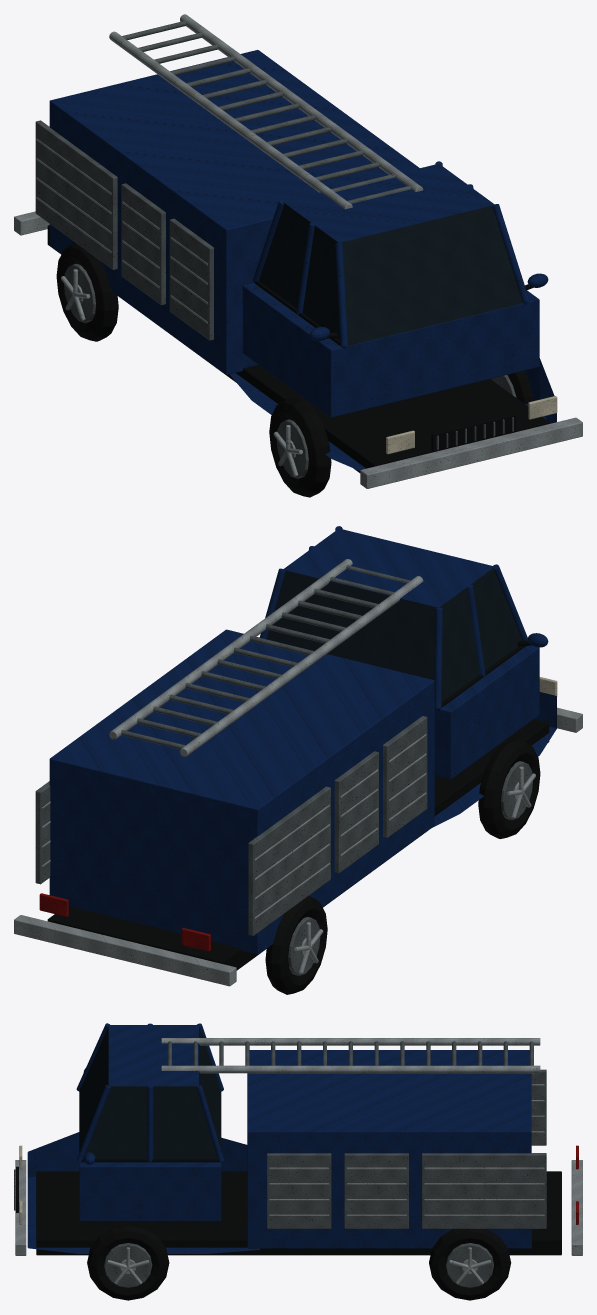
The model's file is PROP-EAE1C359D468_lod0.glb.
3 renders of one model, top to bottom at view 1: azimuth 30°, elevation 25°; view 2: azimuth 150°, elevation 25°; view 3: azimuth 270°, elevation 25°, orthographic. The views are drawn at different scales.
Visible parts, largest first — view 1: equipment_body, sloped_cabin_glazing.004, lower_cab_shell.002, locker_door, chassis.006, roof_panel.004, tire.006, ladder_rails, ladder_rungs, bumper.006, window_pillars.004, rim.006 (+5 smaller); view 2: equipment_body, locker_door, sloped_cabin_glazing.004, lower_cab_shell.002, roof_panel.004, tire.006, chassis.006, ladder_rails, ladder_rungs, bumper.006, window_pillars.004, rim.006 (+4 smaller); view 3: equipment_body, locker_door, chassis.006, sloped_cabin_glazing.004, lower_cab_shell.002, tire.006, ladder_rails, roof_panel.004, shaped_body_panels.006, rim.006, locker_slats, window_pillars.004 (+4 smaller).
Part boxes in pixels (<box>): equipment_body: <box>49,50,419,374</box>; sloped_cabin_glazing.004: <box>259,202,522,345</box>; lower_cab_shell.002: <box>242,283,539,417</box>; locker_door: <box>35,120,213,340</box>; chassis.006: <box>47,225,549,472</box>; roof_panel.004: <box>283,163,494,242</box>; tire.006: <box>56,242,533,497</box>; ladder_rails: <box>109,14,423,209</box>; ladder_rungs: <box>122,21,411,203</box>; bumper.006: <box>14,211,582,488</box>; window_pillars.004: <box>252,161,529,346</box>; rim.006: <box>64,263,516,478</box>; equipment_body: <box>49,629,434,954</box>; locker_door: <box>35,716,427,935</box>; sloped_cabin_glazing.004: <box>266,567,522,701</box>; lower_cab_shell.002: <box>434,645,539,779</box>; roof_panel.004: <box>283,528,494,607</box>; tire.006: <box>265,739,540,994</box>; chassis.006: <box>47,719,549,970</box>; ladder_rails: <box>109,559,423,756</box>; ladder_rungs: <box>121,565,410,749</box>; bumper.006: <box>14,707,582,986</box>; window_pillars.004: <box>259,526,527,708</box>; rim.006: <box>288,761,532,975</box>; equipment_body: <box>247,1050,531,1248</box>; locker_door: <box>267,1069,546,1228</box>; chassis.006: <box>36,1171,561,1255</box>; sloped_cabin_glazing.004: <box>79,1025,221,1158</box>; lower_cab_shell.002: <box>79,1162,221,1221</box>; tire.006: <box>87,1225,511,1300</box>; ladder_rails: <box>161,1038,540,1073</box>; roof_panel.004: <box>108,1025,198,1086</box>; shaped_body_panels.006: <box>27,1132,260,1253</box>; rim.006: <box>104,1243,493,1287</box>; locker_slats: <box>269,1084,544,1216</box>; window_pillars.004: <box>76,1023,223,1162</box>.
Size of the model in its own units: 2.56 by 2.65 by 6.61.
8 materials, 8 textured.
